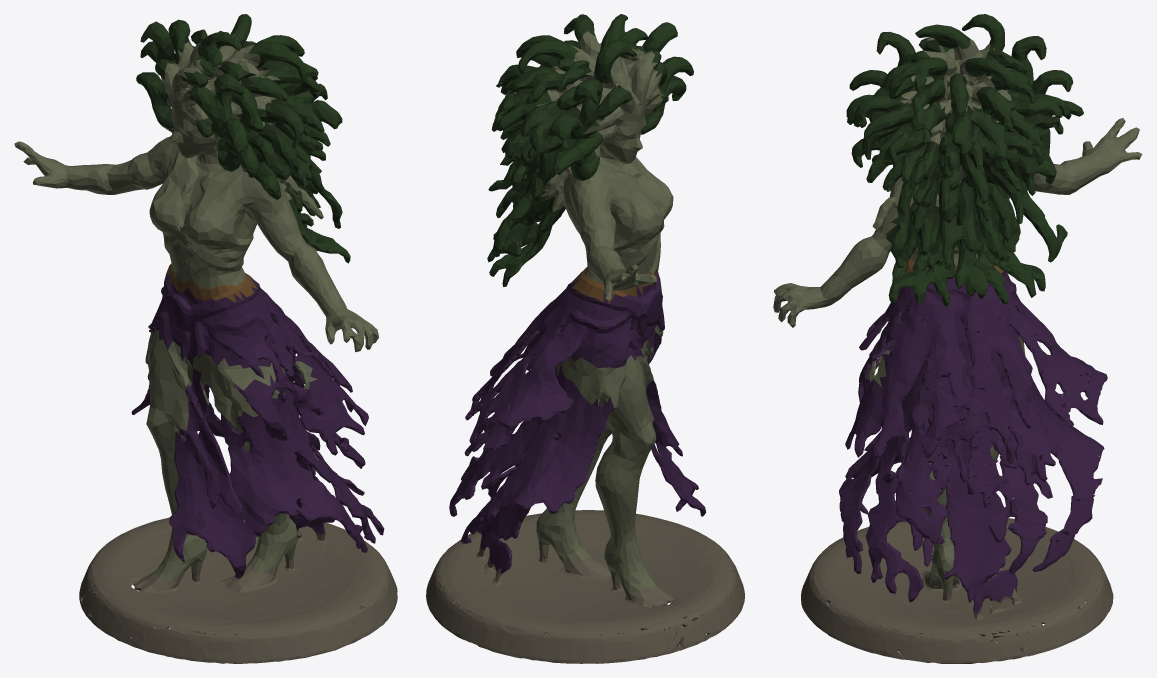
Rendered from medusa.glb.
3 views of the same model, side by side, from view 1: azimuth 30°, elevation 25°; view 2: azimuth 150°, elevation 25°; view 3: azimuth 270°, elevation 25° (orthographic). The views are drawn at different scales.
Parts seen in each view (by area): view 1: tmpc3gfmfwg.ply; view 2: tmpc3gfmfwg.ply; view 3: tmpc3gfmfwg.ply.
Part boxes in pixels (bbox=[...]): tmpc3gfmfwg.ply: bbox=[14, 14, 397, 663]; tmpc3gfmfwg.ply: bbox=[426, 14, 744, 663]; tmpc3gfmfwg.ply: bbox=[773, 14, 1142, 663].
Bounding box in the file's own units: 0.9845 × 1.96 × 1.16.
